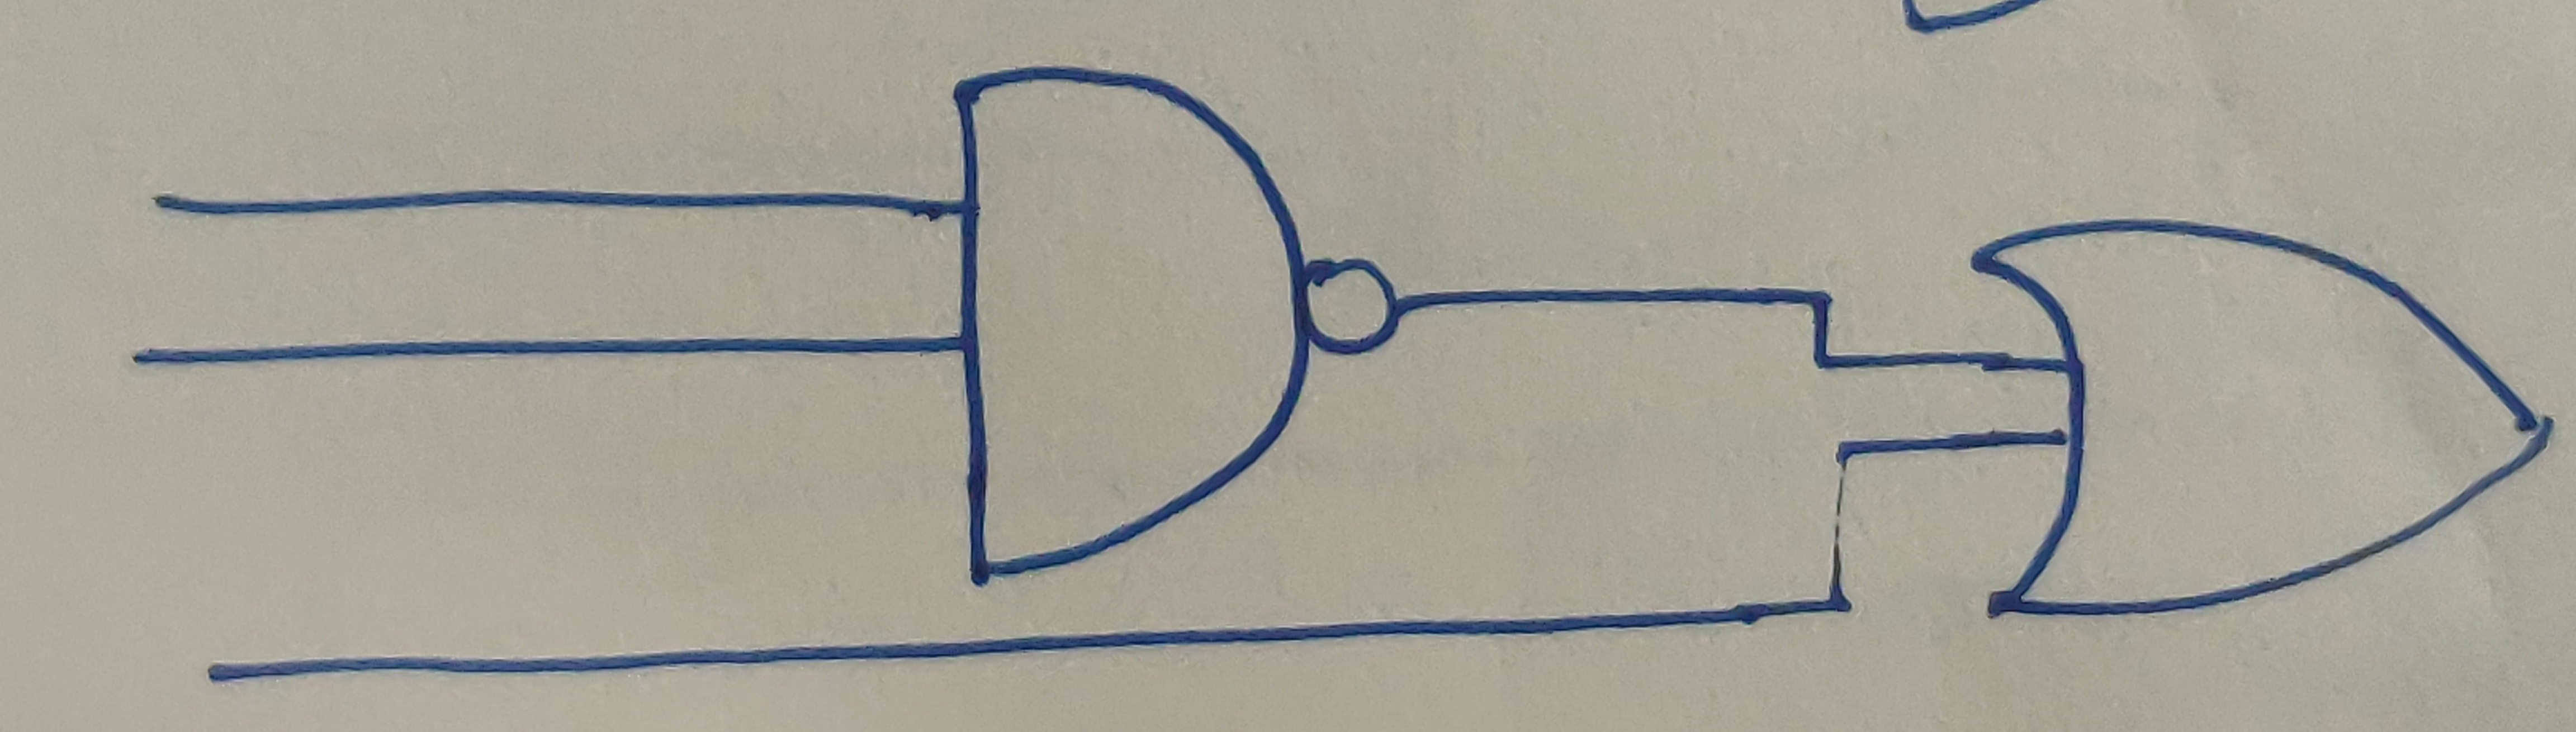and: (946, 61, 1311, 583)
not: (1301, 245, 1403, 359)
or: (1962, 218, 2553, 629)
